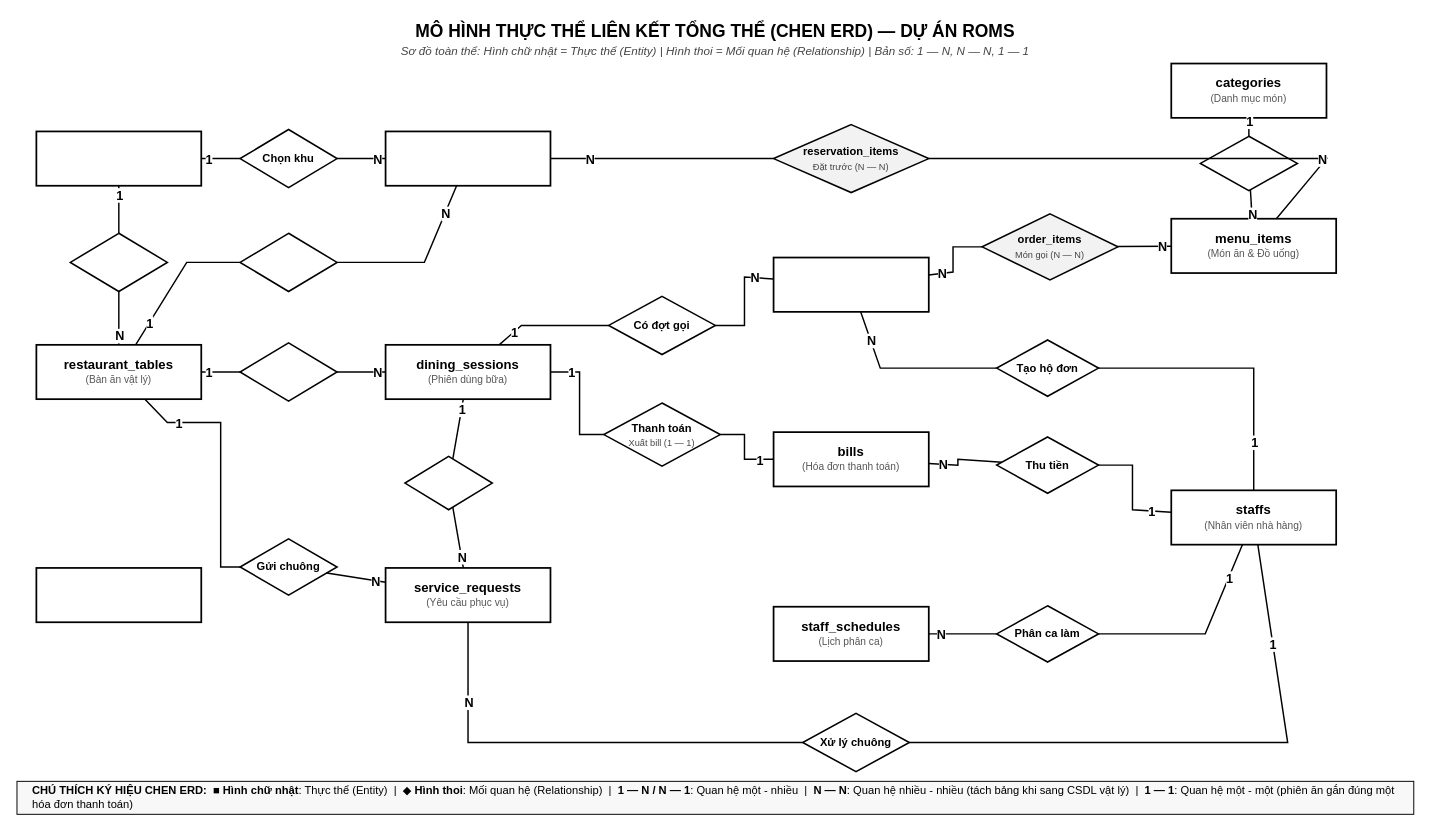
Some shapes in this 1431 by 831 pixel diagram are drawn without their labels. The box of each missing label's shape, as (x1, y1, x2, y2) in pixels:
Có bàn: (69, 232, 168, 292)
Giữ chỗ: (239, 232, 337, 292)
Gắn phiên: (404, 455, 493, 510)
Mở phiên: (239, 342, 337, 401)
orders (Đợt gọi món): (772, 256, 929, 312)
Phân loại: (1199, 135, 1298, 191)
reservations (Phiếu đặt bàn): (384, 130, 551, 186)
restaurant_profiles (Cấu hình nhà hàng - Singleton): (35, 567, 202, 623)
zones (Phân khu bàn): (35, 130, 202, 186)
